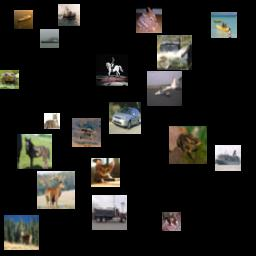airplane: (147, 71, 182, 106), (72, 118, 101, 147)
automobile: (109, 102, 141, 134)
cat: (91, 158, 120, 187), (44, 113, 60, 129)
deer: (37, 171, 75, 209), (4, 215, 39, 250), (136, 7, 162, 33)
dog: (162, 212, 181, 231)
frog: (169, 126, 207, 164), (0, 70, 19, 89)
ship: (211, 12, 237, 38), (215, 145, 241, 171), (58, 4, 80, 26), (14, 10, 33, 29), (40, 29, 59, 48)
truck: (157, 35, 192, 70), (92, 195, 127, 230)
